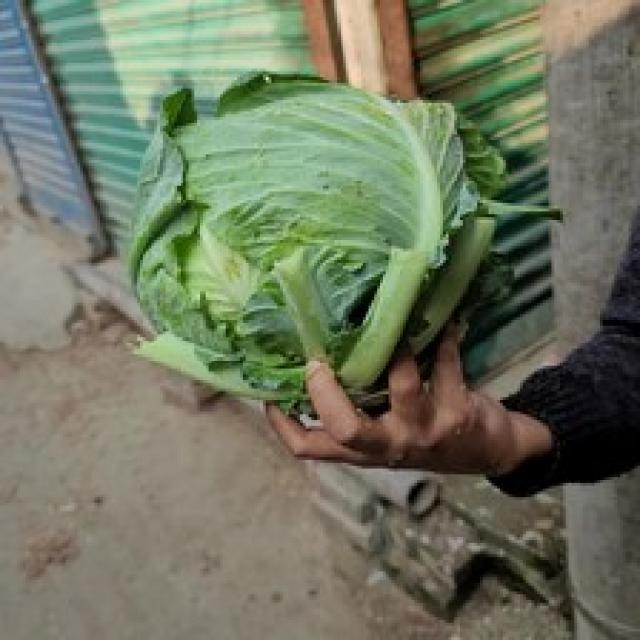Cabbage: (123, 69, 560, 417)
